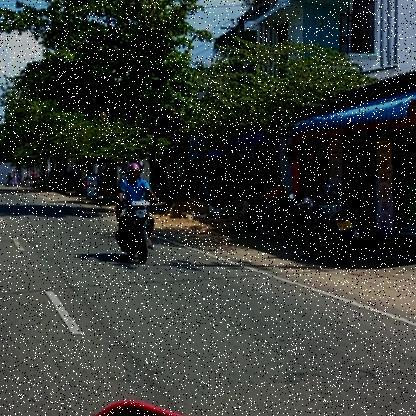motorcycle: (112, 197, 162, 266)
